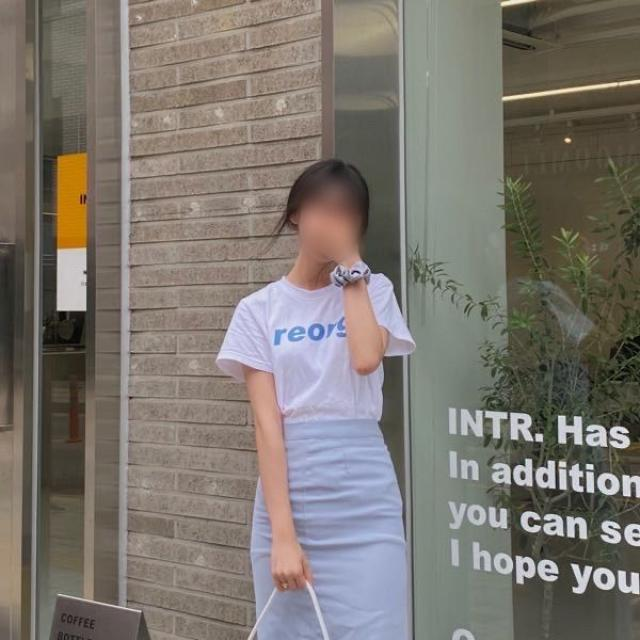shortsleeve: (214, 264, 413, 417)
skirt: (247, 415, 406, 636)
